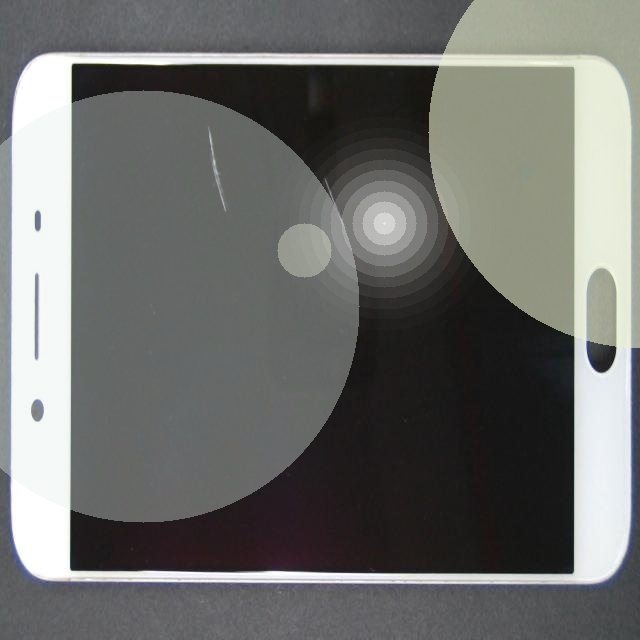scratch: (157, 40, 481, 277), (132, 127, 335, 240)
